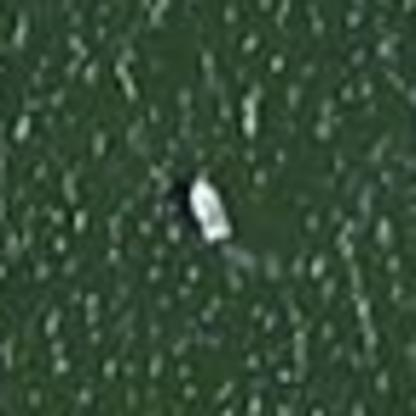ship: (176, 170, 242, 252)
